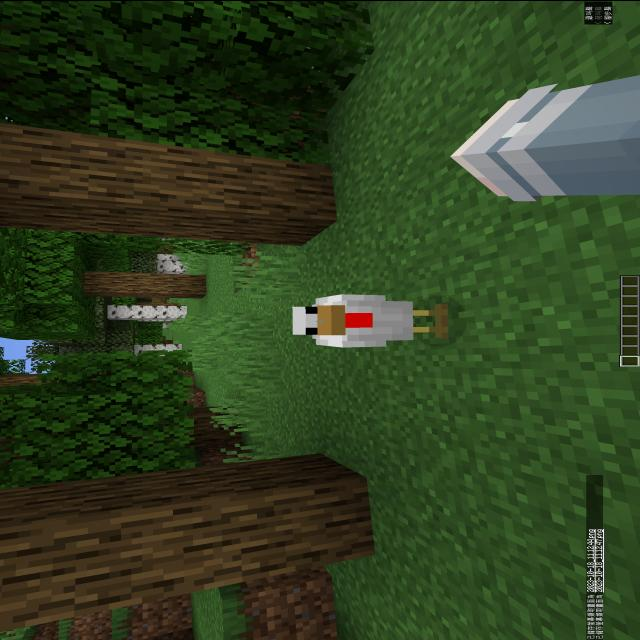chicken: (279, 277, 456, 363)
